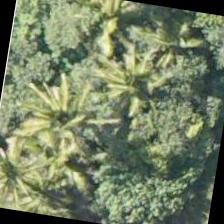Kelapa_Sawit: (9, 63, 112, 166), (81, 15, 184, 118), (0, 124, 61, 216)
